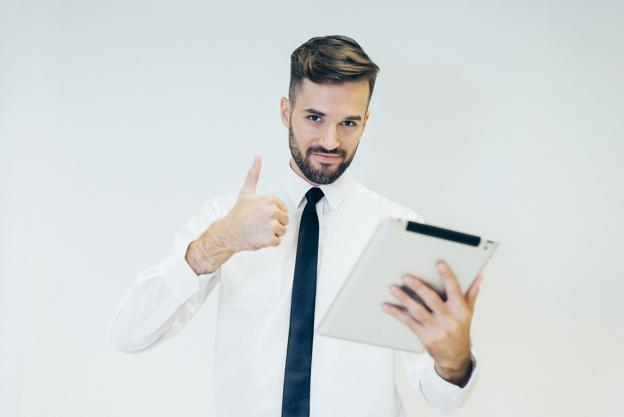thumbsup: (247, 154, 289, 248)
